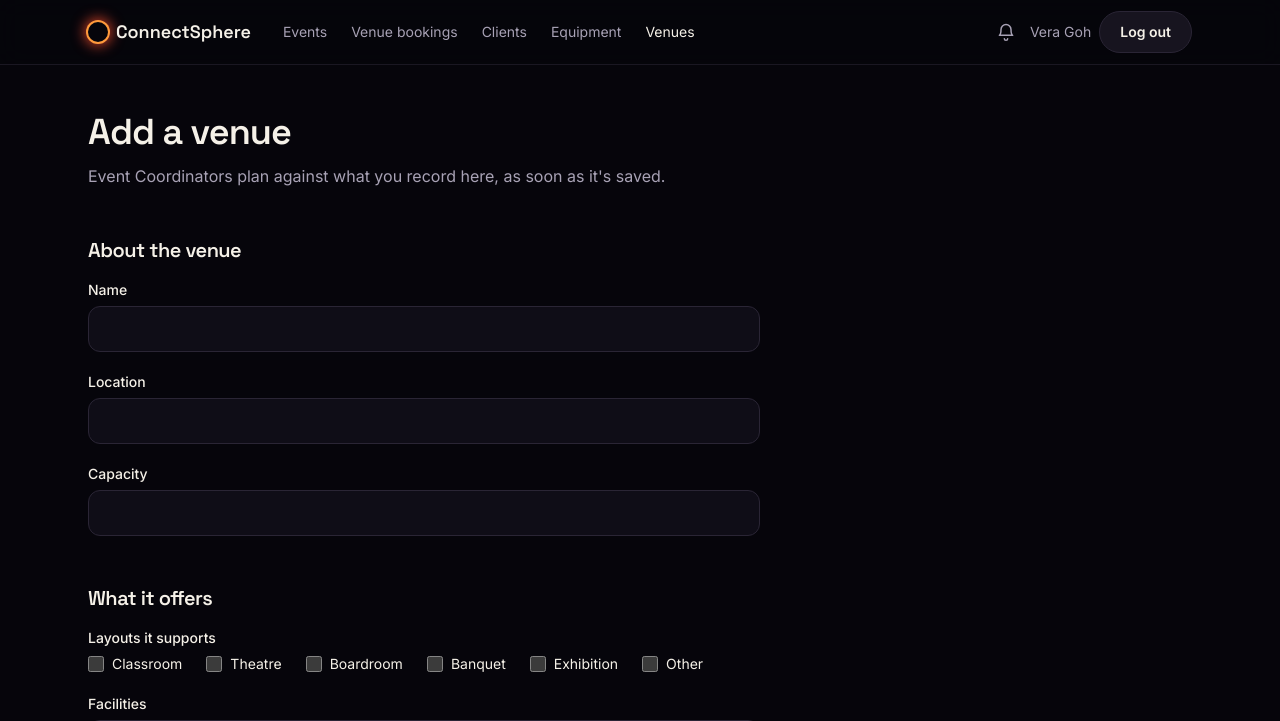
Test case: SCRUM-25 opening hours on the venue form (ADR-0008) › shows an empty time as the backend refuses it
Type "Skyline Room" into the field labelled "Name" at (424, 329), box top-left (88, 306), bottom-right (760, 352)
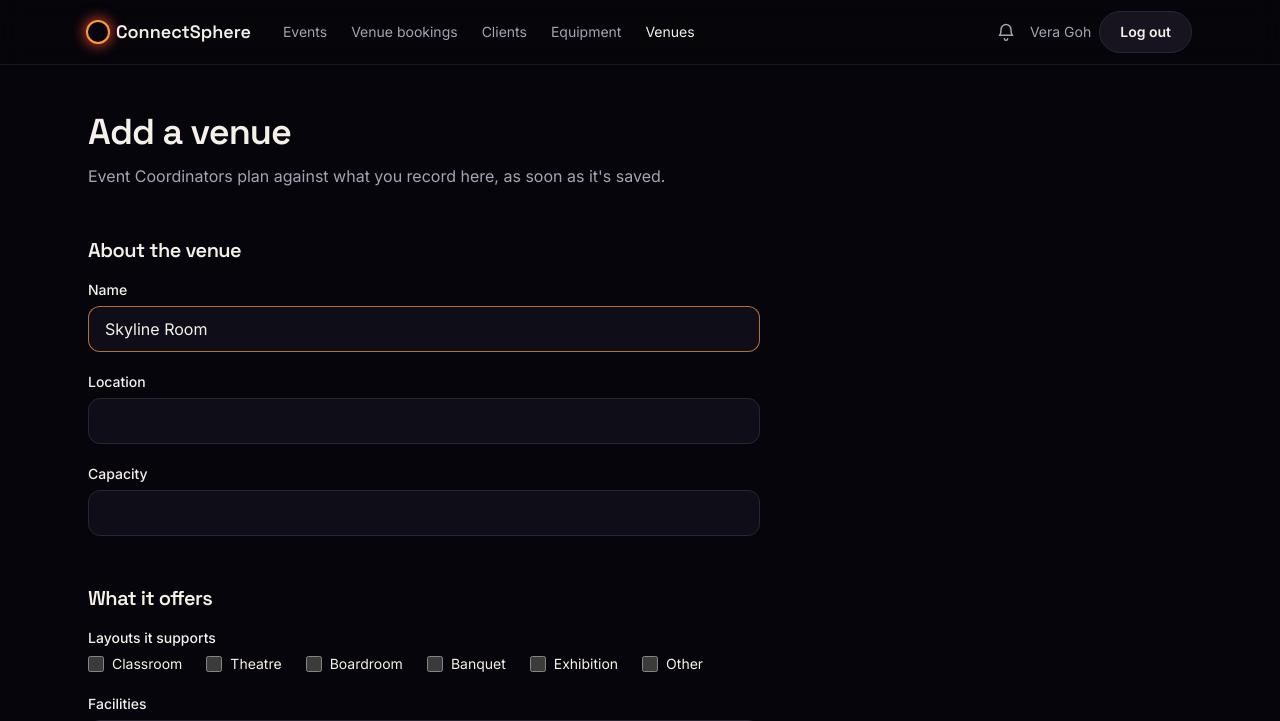
Type "Level 9, Tower Block" into the field labelled "Location" at (424, 421), box top-left (88, 398), bottom-right (760, 444)
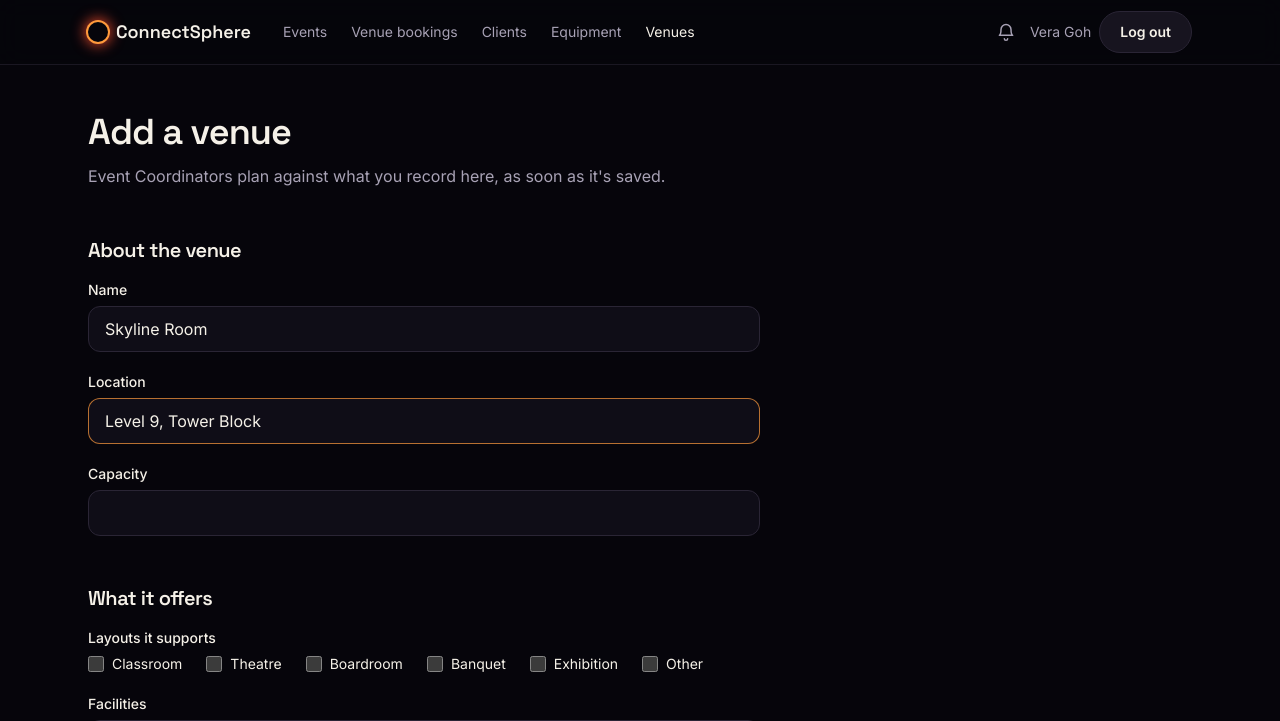
Type "64" into the number field labelled "Capacity" at (424, 513), box top-left (88, 490), bottom-right (760, 536)
(page scrolled)
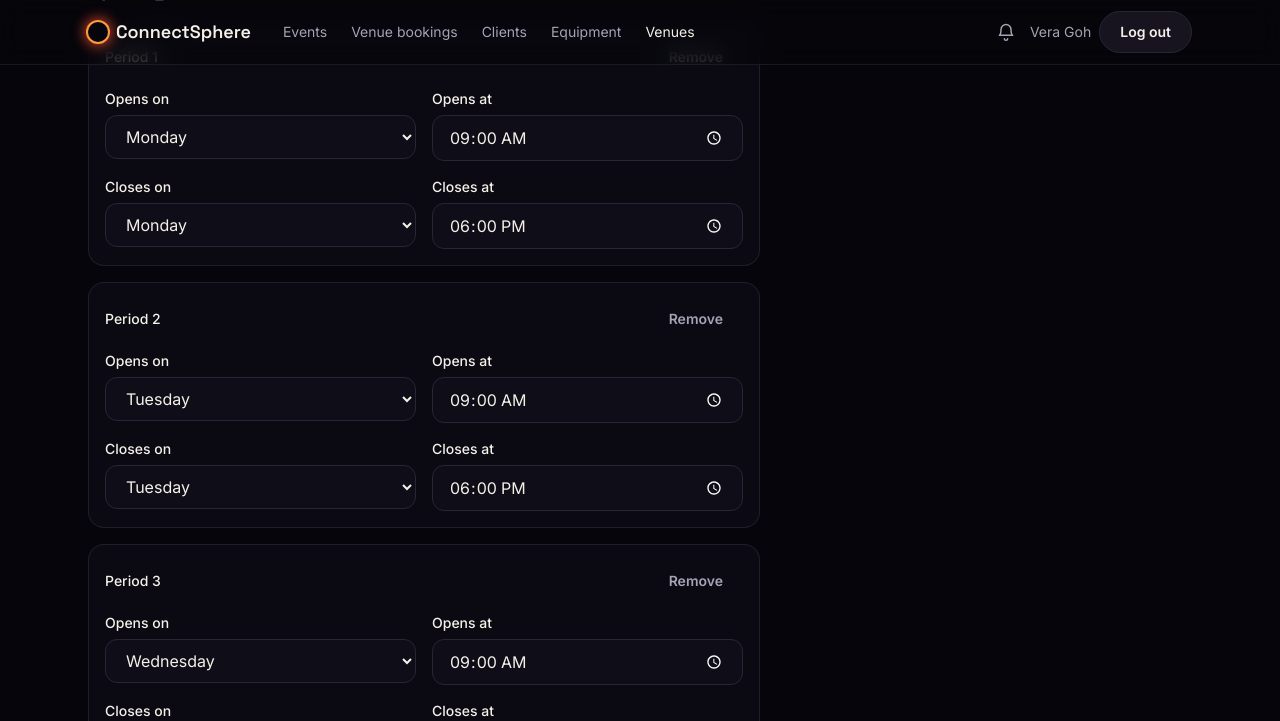
Clear the 2nd time field labelled "Opens at" at (588, 400), box top-left (432, 377), bottom-right (743, 423)
(page scrolled)
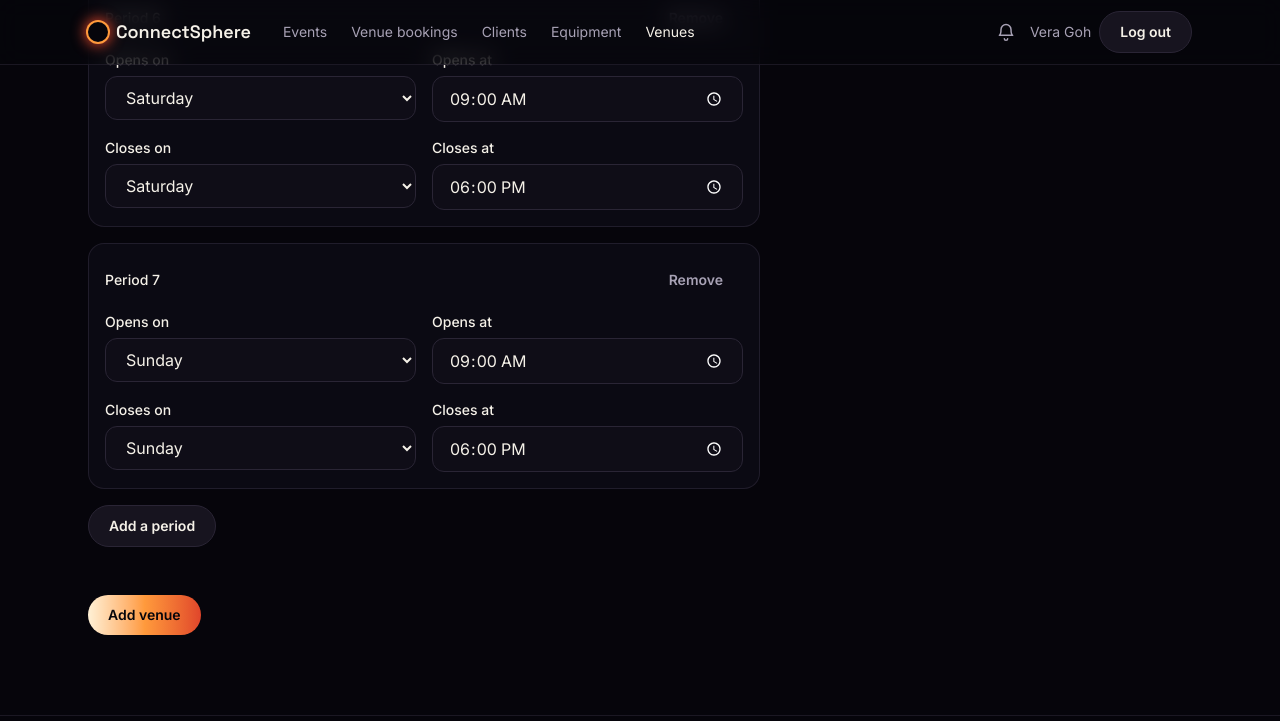
Click the button "Add venue" at (144, 615), box top-left (88, 595), bottom-right (201, 635)
(page scrolled)
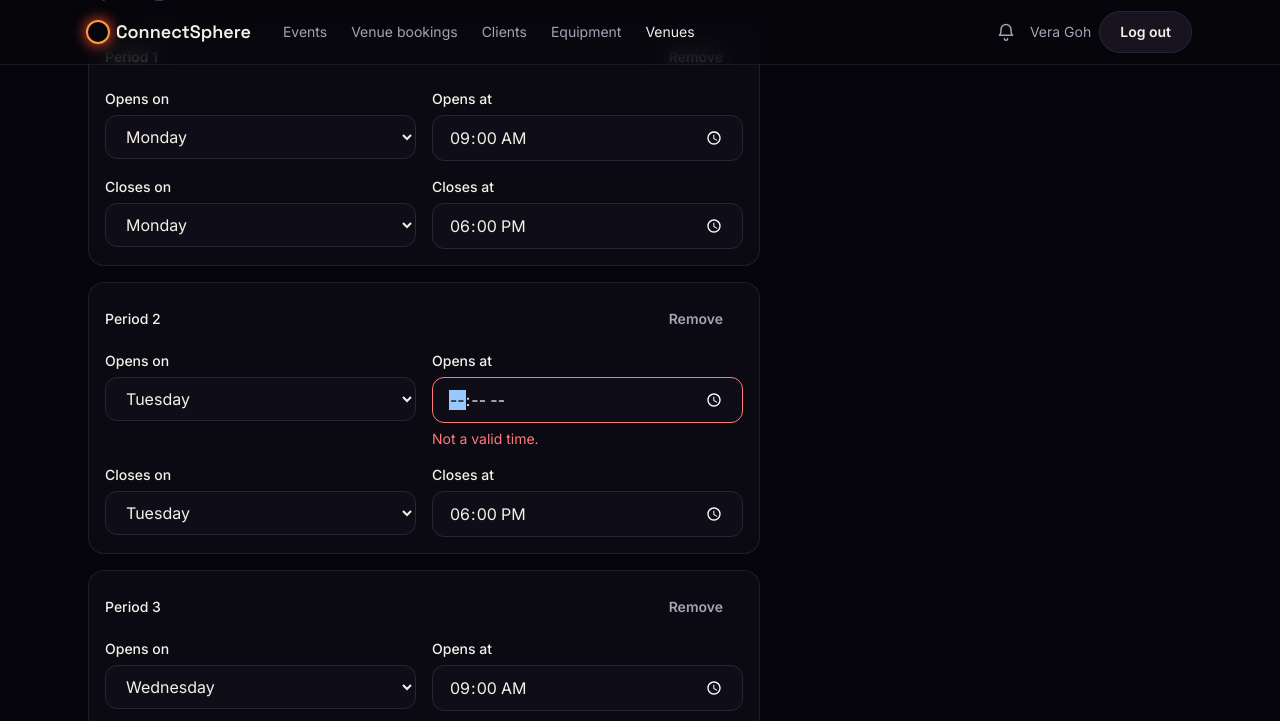
Check: the list item "Not a valid time." is shown, box top-left (432, 430), bottom-right (539, 447)
